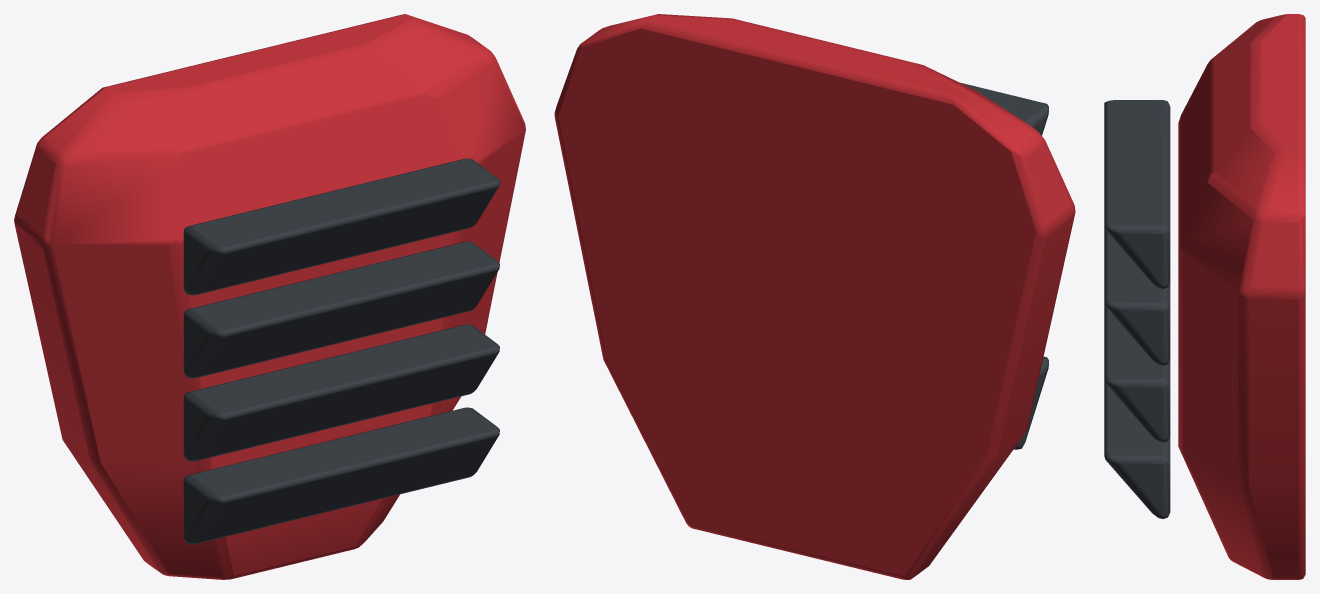
File: HeadBack_Set03_Overclock.fbx
3 renders of one model, left to right at view 1: azimuth 30°, elevation 25°; view 2: azimuth 150°, elevation 25°; view 3: azimuth 270°, elevation 25°, orthographic. The views are drawn at different scales.
Parts seen in each view (by area): view 1: HeadBack_Set03_Overclock; view 2: HeadBack_Set03_Overclock; view 3: HeadBack_Set03_Overclock.
Boxes of the visible parts, x1=… form: HeadBack_Set03_Overclock: x1=14, y1=14, x2=525, y2=579; HeadBack_Set03_Overclock: x1=554, y1=14, x2=1075, y2=579; HeadBack_Set03_Overclock: x1=1104, y1=14, x2=1305, y2=579.
Bounding box in the file's own units: 0.5577 × 0.54 × 0.2185.
